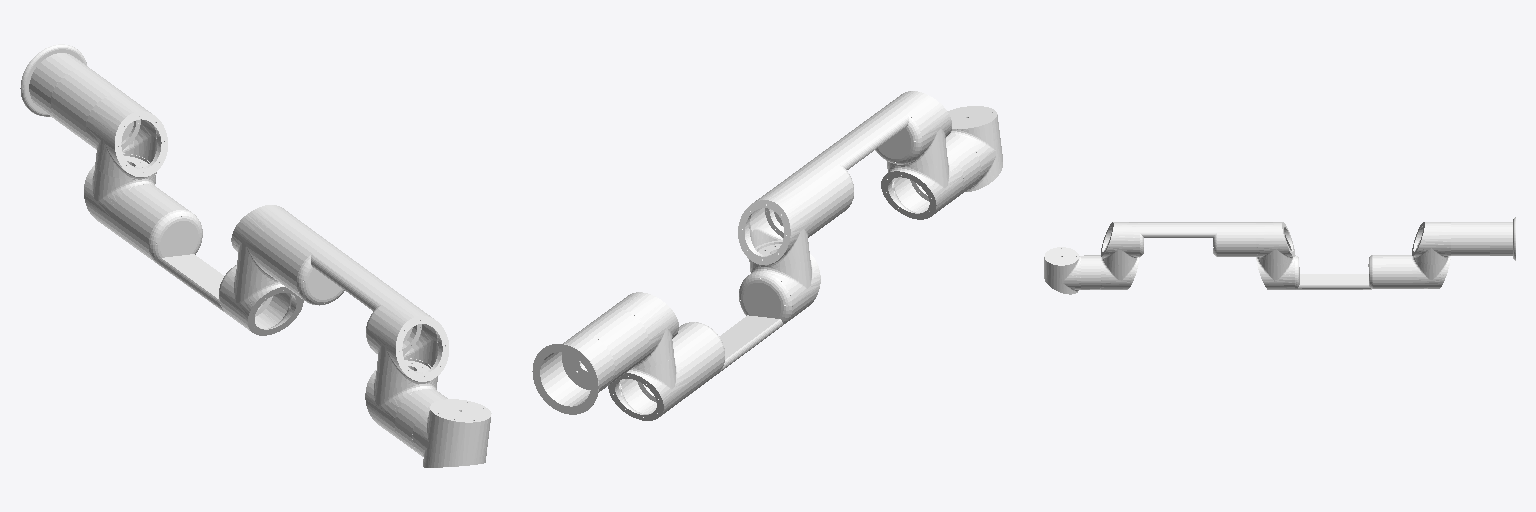
The robot description file, URDF, robot "armurdf":
<robot
  name="armurdf">
  <link
    name="world_foot_link">
    <inertial>
      <origin
        xyz="-1.277E-17 -3.9505E-20 0.030179"
        rpy="0 0 0" />
      <mass
        value="0.047112" />
      <inertia
        ixx="0"
        ixy="0"
        ixz="0"
        iyy="0"
        iyz="0"
        izz="0" />
    </inertial>
    <visual>
      <origin
        xyz="0 0 0"
        rpy="0 0 0" />
      <geometry>
        <mesh
          filename="package://kv_description/meshes/world_foot_link.stl" />
      </geometry>
      <material
        name="">
        <color
          rgba="1 1 1 1" />
      </material>
    </visual>
    <collision>
      <origin
        xyz="0 0 0"
        rpy="0 0 0" />
      <geometry>
        <mesh
          filename="package://kv_description/meshes/world_foot_link.stl" />
      </geometry>
    </collision>
  </link>
  <link
    name="toe_foot_link">
    <inertial>
      <origin
        xyz="0.0026874 0.094598 0.0043029"
        rpy="0 0 0" />
      <mass
        value="0.19306" />
      <inertia
        ixx="0.00029801"
        ixy="-1.6027E-05"
        ixz="-1.3904E-06"
        iyy="3.0946E-06"
        iyz="-2.5661E-05"
        izz="0.00029666" />
    </inertial>
    <visual>
      <origin
        xyz="0 0 0"
        rpy="0 0 0" />
      <geometry>
        <mesh
          filename="package://kv_description/meshes/toe_foot_link.stl" />
      </geometry>
      <material
        name="">
        <color
          rgba="1 1 1 1" />
      </material>
    </visual>
    <collision>
      <origin
        xyz="0 0 0"
        rpy="0 0 0" />
      <geometry>
        <mesh
          filename="package://kv_description/meshes/toe_foot_link.stl" />
      </geometry>
    </collision>
  </link>
  <joint
    name="toe_foot_joint"
    type="continuous">
    <origin
      xyz="0 -0.06 0"
      rpy="3.1416 0.91035 -7.8821E-17" />
    <parent
      link="world_foot_link" />
    <child
      link="toe_foot_link" />
    <axis
      xyz="0 1 0" />
  </joint>
  <link
    name="foot_thigh_link">
    <inertial>
      <origin
        xyz="-0.0021034 -0.0050999 -0.045876"
        rpy="0 0 0" />
      <mass
        value="0.10494" />
      <inertia
        ixx="0"
        ixy="0"
        ixz="0"
        iyy="0"
        iyz="0"
        izz="0" />
    </inertial>
    <visual>
      <origin
        xyz="0 0 0"
        rpy="0 0 0" />
      <geometry>
        <mesh
          filename="package://kv_description/meshes/foot_thigh_link.stl" />
      </geometry>
      <material
        name="">
        <color
          rgba="1 1 1 1" />
      </material>
    </visual>
    <collision>
      <origin
        xyz="0 0 0"
        rpy="0 0 0" />
      <geometry>
        <mesh
          filename="package://kv_description/meshes/foot_thigh_link.stl" />
      </geometry>
    </collision>
  </link>
  <joint
    name="foot_thigh_joint"
    type="continuous">
    <origin
      xyz="0.024767 0.135 0.024767"
      rpy="3.1342 0.78537 -0.010507" />
    <parent
      link="toe_foot_link" />
    <child
      link="foot_thigh_link" />
    <axis
      xyz="0 0 1" />
  </joint>
  <link
    name="thigh_calf_link">
    <inertial>
      <origin
        xyz="0.00027997 0.12036 0.0040096"
        rpy="0 0 0" />
      <mass
        value="0.7878" />
      <inertia
        ixx="0.0072279"
        ixy="-4.1933E-05"
        ixz="2.8902E-06"
        iyy="6.9814E-05"
        iyz="-6.6258E-05"
        izz="0.0071588" />
    </inertial>
    <visual>
      <origin
        xyz="0 0 0"
        rpy="0 0 0" />
      <geometry>
        <mesh
          filename="package://kv_description/meshes/thigh_calf_link.stl" />
      </geometry>
      <material
        name="">
        <color
          rgba="1 1 1 1" />
      </material>
    </visual>
    <collision>
      <origin
        xyz="0 0 0"
        rpy="0 0 0" />
      <geometry>
        <mesh
          filename="package://kv_description/meshes/thigh_calf_link.stl" />
      </geometry>
    </collision>
  </link>
  <joint
    name="thigh_calf_joint"
    type="continuous">
    <origin
      xyz="0 -0.044415 -0.054974"
      rpy="3.1416 -0.0038068 -1.0114E-15" />
    <parent
      link="foot_thigh_link" />
    <child
      link="thigh_calf_link" />
    <axis
      xyz="0 1 0" />
  </joint>
  <link
    name="calf_big_arm_link">
    <inertial>
      <origin
        xyz="-0.0021034 -0.0050999 -0.045501"
        rpy="0 0 0" />
      <mass
        value="0.10494" />
      <inertia
        ixx="0"
        ixy="0"
        ixz="0"
        iyy="0"
        iyz="0"
        izz="0" />
    </inertial>
    <visual>
      <origin
        xyz="0 0 0"
        rpy="0 0 0" />
      <geometry>
        <mesh
          filename="package://kv_description/meshes/calf_big_arm_link.stl" />
      </geometry>
      <material
        name="">
        <color
          rgba="1 1 1 1" />
      </material>
    </visual>
    <collision>
      <origin
        xyz="0 0 0"
        rpy="0 0 0" />
      <geometry>
        <mesh
          filename="package://kv_description/meshes/calf_big_arm_link.stl" />
      </geometry>
    </collision>
  </link>
  <joint
    name="calf_big_arm_joint"
    type="continuous">
    <origin
      xyz="0 0.31559 -0.035401"
      rpy="1.473E-16 6.0222E-16 -3.1339" />
    <parent
      link="thigh_calf_link" />
    <child
      link="calf_big_arm_link" />
    <axis
      xyz="0 0 -1" />
  </joint>
  <link
    name="big_arm_arm_link">
    <inertial>
      <origin
        xyz="0.00027996 0.11978 0.0040096"
        rpy="0 0 0" />
      <mass
        value="0.7878" />
      <inertia
        ixx="0.0072278"
        ixy="-4.1931E-05"
        ixz="2.8901E-06"
        iyy="6.9814E-05"
        iyz="-6.6259E-05"
        izz="0.0071588" />
    </inertial>
    <visual>
      <origin
        xyz="0 0 0"
        rpy="0 0 0" />
      <geometry>
        <mesh
          filename="package://kv_description/meshes/big_arm_arm_link.stl" />
      </geometry>
      <material
        name="">
        <color
          rgba="1 1 1 1" />
      </material>
    </visual>
    <collision>
      <origin
        xyz="0 0 0"
        rpy="0 0 0" />
      <geometry>
        <mesh
          filename="package://kv_description/meshes/big_arm_arm_link.stl" />
      </geometry>
    </collision>
  </link>
  <joint
    name="big_arm_arm_joint"
    type="continuous">
    <origin
      xyz="0 -0.045 -0.054599"
      rpy="3.1416 -0.0051076 -4.0902E-17" />
    <parent
      link="calf_big_arm_link" />
    <child
      link="big_arm_arm_link" />
    <axis
      xyz="0 1 0" />
  </joint>
  <link
    name="arm_hand_link">
    <inertial>
      <origin
        xyz="0.048329 -0.024492 -0.0013759"
        rpy="0 0 0" />
      <mass
        value="0.16041" />
      <inertia
        ixx="0.00010345"
        ixy="1.4301E-05"
        ixz="-4.5751E-07"
        iyy="2.0848E-06"
        iyz="3.3061E-06"
        izz="0.00010532" />
    </inertial>
    <visual>
      <origin
        xyz="0 0 0"
        rpy="0 0 0" />
      <geometry>
        <mesh
          filename="package://kv_description/meshes/arm_hand_link.stl" />
      </geometry>
      <material
        name="">
        <color
          rgba="1 1 1 1" />
      </material>
    </visual>
    <collision>
      <origin
        xyz="0 0 0"
        rpy="0 0 0" />
      <geometry>
        <mesh
          filename="package://kv_description/meshes/arm_hand_link.stl" />
      </geometry>
    </collision>
  </link>
  <joint
    name="arm_hand_joint"
    type="continuous">
    <origin
      xyz="0 0.315 -0.035719"
      rpy="3.1364 1.5708 0" />
    <parent
      link="big_arm_arm_link" />
    <child
      link="arm_hand_link" />
    <axis
      xyz="-1 0 0" />
  </joint>
  <link
    name="hand_finger_link">
    <inertial>
      <origin
        xyz="-0.0018551 -0.0095131 -0.037375"
        rpy="0 0 0" />
      <mass
        value="0.11897" />
      <inertia
        ixx="0"
        ixy="0"
        ixz="0"
        iyy="0"
        iyz="0"
        izz="0" />
    </inertial>
    <visual>
      <origin
        xyz="0 0 0"
        rpy="0 0 0" />
      <geometry>
        <mesh
          filename="package://kv_description/meshes/hand_finger_link.stl" />
      </geometry>
      <material
        name="">
        <color
          rgba="1 1 1 1" />
      </material>
    </visual>
    <collision>
      <origin
        xyz="0 0 0"
        rpy="0 0 0" />
      <geometry>
        <mesh
          filename="package://kv_description/meshes/hand_finger_link.stl" />
      </geometry>
    </collision>
  </link>
  <joint
    name="hand_finger_joint"
    type="continuous">
    <origin
      xyz="0.054281 -0.0896 0"
      rpy="-1.5708 -1.5553 -4.3394E-13" />
    <parent
      link="arm_hand_link" />
    <child
      link="hand_finger_link" />
    <axis
      xyz="0 0 -1" />
  </joint>
</robot>

--- What the picture shows (computed from the rendered views, not written in the file) ---
3 views of the same robot in one strip: view 1: azimuth 30°, elevation 25°; view 2: azimuth 150°, elevation 25°; view 3: azimuth 270°, elevation 25° (orthographic).
Model armurdf with 8 links and 7 joints (7 continuous), rooted at world_foot_link, posed all joints at 0.
Visible links, largest first — view 1: big_arm_arm_link, thigh_calf_link, toe_foot_link, hand_finger_link, arm_hand_link, world_foot_link, calf_big_arm_link, foot_thigh_link; view 2: big_arm_arm_link, thigh_calf_link, calf_big_arm_link, toe_foot_link, world_foot_link, arm_hand_link, foot_thigh_link, hand_finger_link; view 3: big_arm_arm_link, thigh_calf_link, toe_foot_link, arm_hand_link, hand_finger_link, calf_big_arm_link, foot_thigh_link, world_foot_link.
Link boxes in pixels (bbox=[...]): big_arm_arm_link: bbox=[262, 222, 448, 383]; thigh_calf_link: bbox=[113, 184, 303, 335]; toe_foot_link: bbox=[51, 69, 167, 179]; hand_finger_link: bbox=[412, 399, 491, 467]; arm_hand_link: bbox=[365, 370, 447, 454]; world_foot_link: bbox=[20, 44, 94, 120]; calf_big_arm_link: bbox=[231, 205, 303, 281]; foot_thigh_link: bbox=[84, 165, 156, 236]; big_arm_arm_link: bbox=[774, 91, 951, 233]; thigh_calf_link: bbox=[672, 254, 820, 397]; calf_big_arm_link: bbox=[738, 183, 818, 266]; toe_foot_link: bbox=[572, 292, 678, 385]; world_foot_link: bbox=[532, 334, 614, 414]; arm_hand_link: bbox=[881, 134, 980, 219]; foot_thigh_link: bbox=[608, 353, 690, 420]; hand_finger_link: bbox=[947, 106, 1002, 191]; big_arm_arm_link: bbox=[1101, 222, 1255, 264]; thigh_calf_link: bbox=[1256, 255, 1411, 289]; toe_foot_link: bbox=[1412, 222, 1489, 264]; arm_hand_link: bbox=[1081, 255, 1139, 289]; hand_finger_link: bbox=[1044, 247, 1080, 294]; calf_big_arm_link: bbox=[1256, 222, 1294, 264]; foot_thigh_link: bbox=[1412, 256, 1450, 288]; world_foot_link: bbox=[1490, 217, 1515, 260].
Bounding box of the posed robot: 0.1014 × 1.09 × 0.1853 m (x, y, z).
8 mesh visuals loaded from 8 distinct referenced files (8 binary STL).
